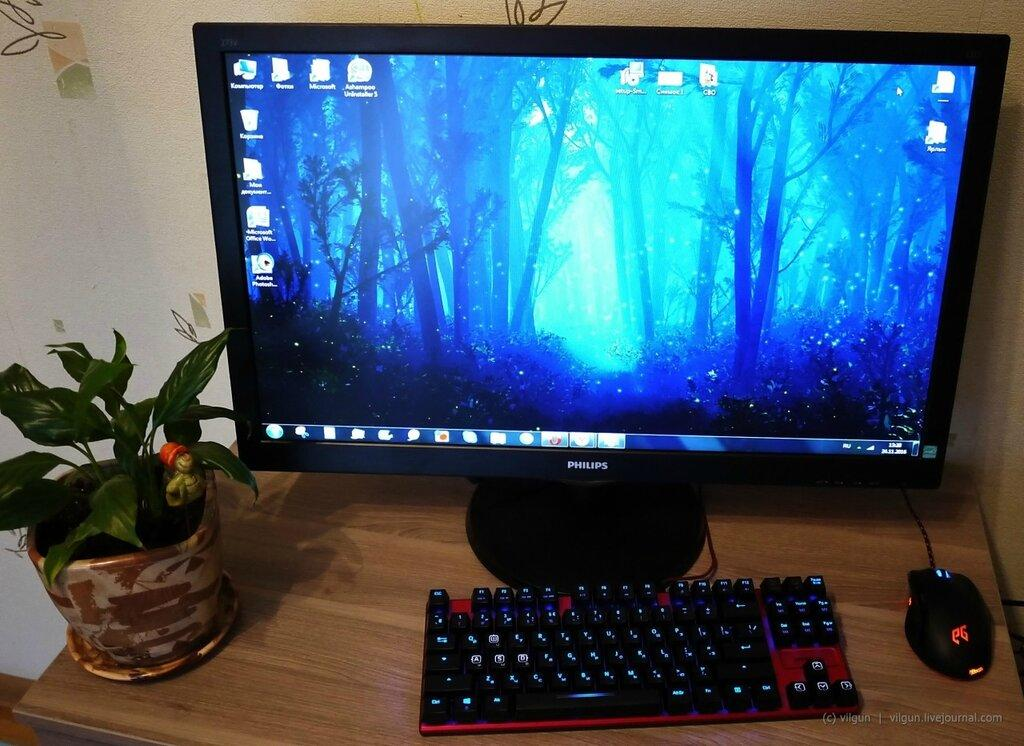monitor: (188, 16, 1009, 579)
